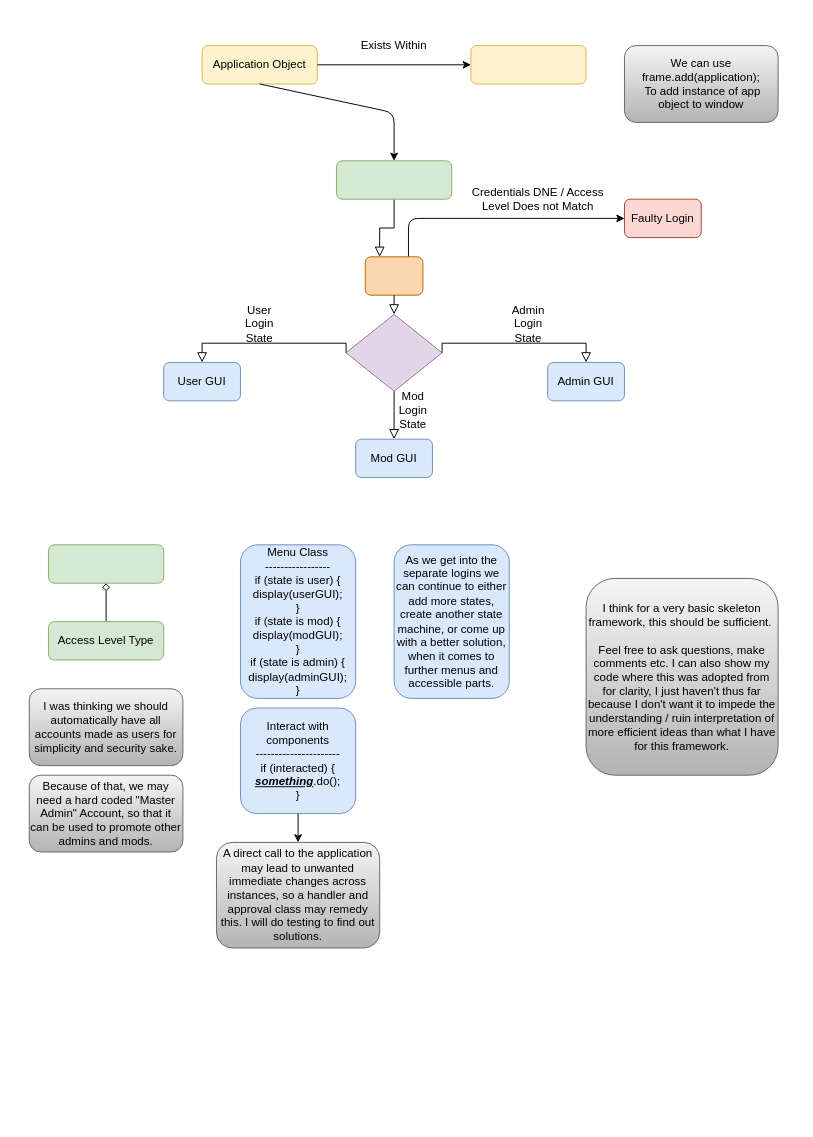
This 813x1137 diagram has some shape labels left out. The centre of each missing label's shape, as x and y in pixels:
Account: (x=106, y=563)
Application Login: (x=394, y=179)
State Machine: (x=393, y=352)
Verification Machine: (x=393, y=275)
Window: (x=528, y=64)
